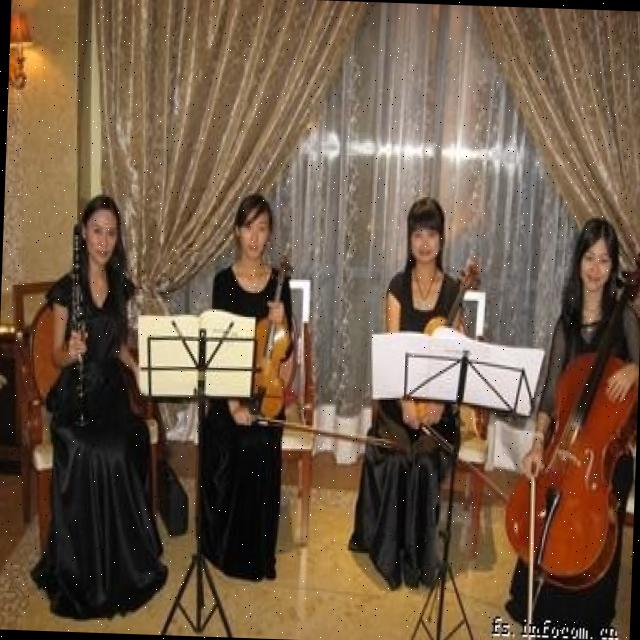cello: (498, 244, 640, 593)
clarinet: (57, 222, 99, 428)
violin: (398, 256, 488, 425), (242, 240, 303, 423)
